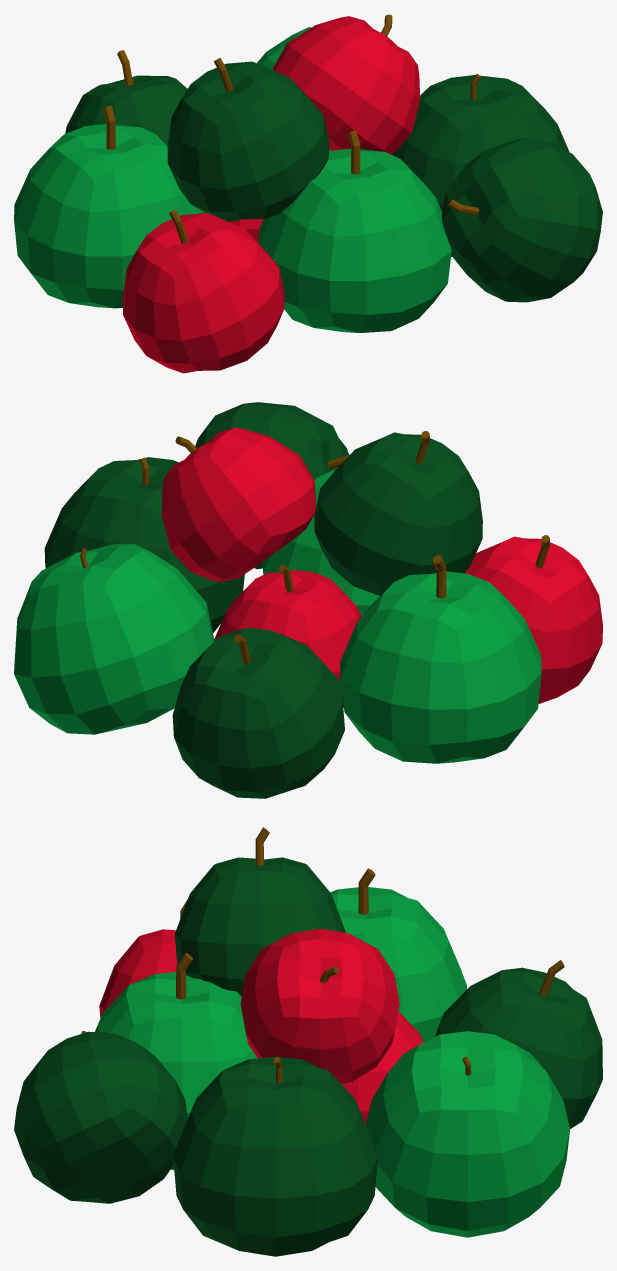
Rendered from Living_Room_apples.fbx.
3 renders of one model, top to bottom at view 1: azimuth 30°, elevation 25°; view 2: azimuth 150°, elevation 25°; view 3: azimuth 270°, elevation 25°, orthographic. The views are drawn at different scales.
Parts seen in each view (by area): view 1: Living_Room_apples; view 2: Living_Room_apples; view 3: Living_Room_apples.
Boxes of the visible parts, x1,y1,x2,y2 form: Living_Room_apples: [14, 14, 602, 373]; Living_Room_apples: [14, 402, 602, 798]; Living_Room_apples: [14, 827, 602, 1256].
Size of the model in its own units: 21.56 by 20.93 by 11.04.
